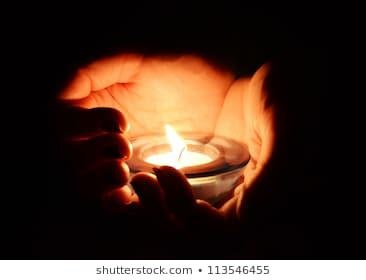fire: (62, 52, 278, 176)
